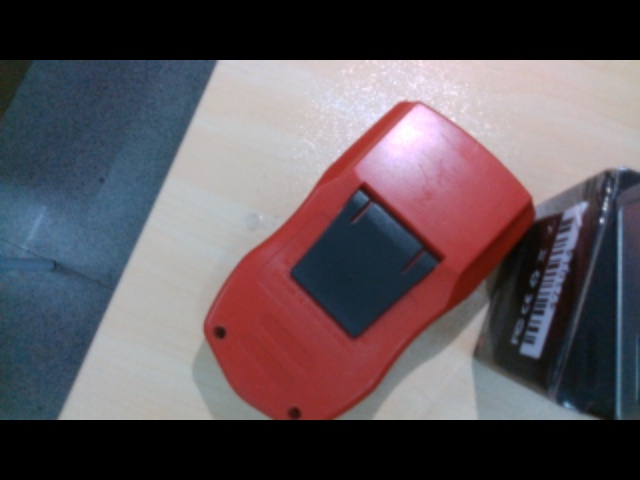Multimeter: (200, 98, 538, 421)
Screw holes: (212, 323, 230, 341), (286, 405, 303, 417)
